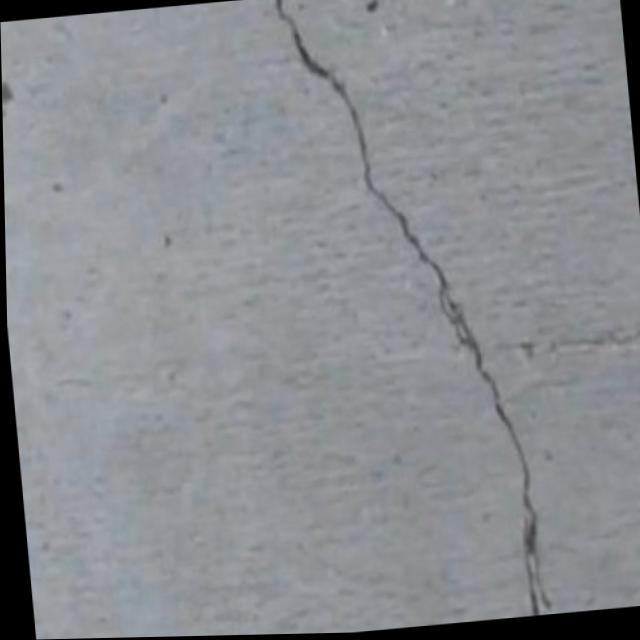Crack: (256, 0, 559, 636)
